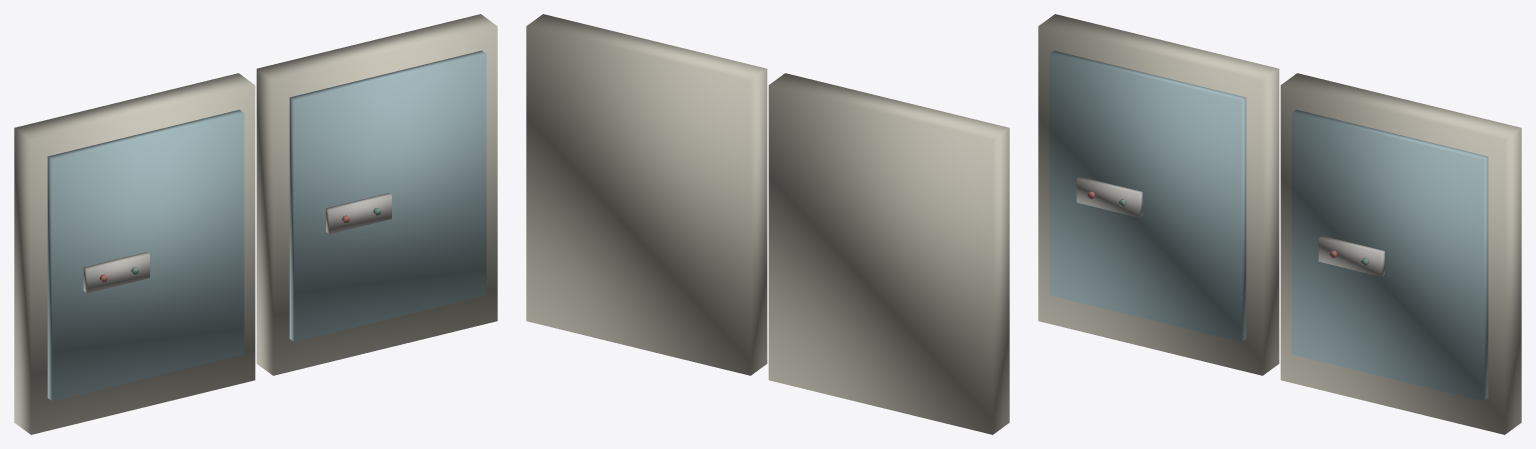
The model's file is x_ray_lightbox__cluster.glb.
The picture shows the model from 3 angles, left to right: view 1: azimuth 30°, elevation 25°; view 2: azimuth 150°, elevation 25°; view 3: azimuth 330°, elevation 25°; orthographic projection.
Visible parts, largest first — view 1: world; view 2: world; view 3: world.
Boxes of the visible parts, box(x1,y1,x2,y2) form: world: box(14, 14, 497, 434); world: box(526, 14, 1009, 434); world: box(1038, 14, 1521, 434).
Size of the model in its own units: 1.46 by 0.88 by 0.1485.
